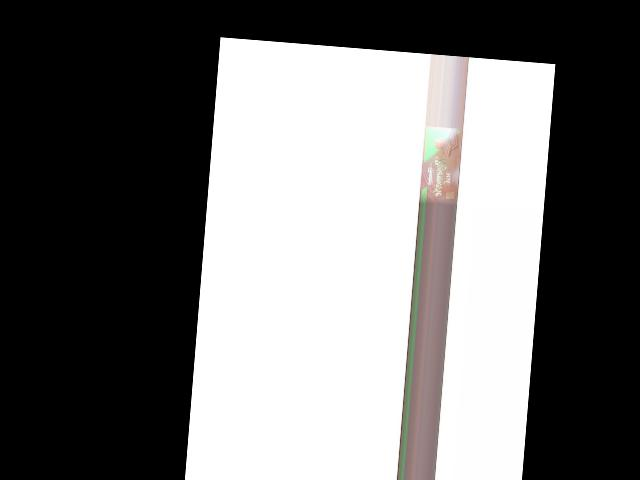chocolate: (420, 127, 462, 206)
